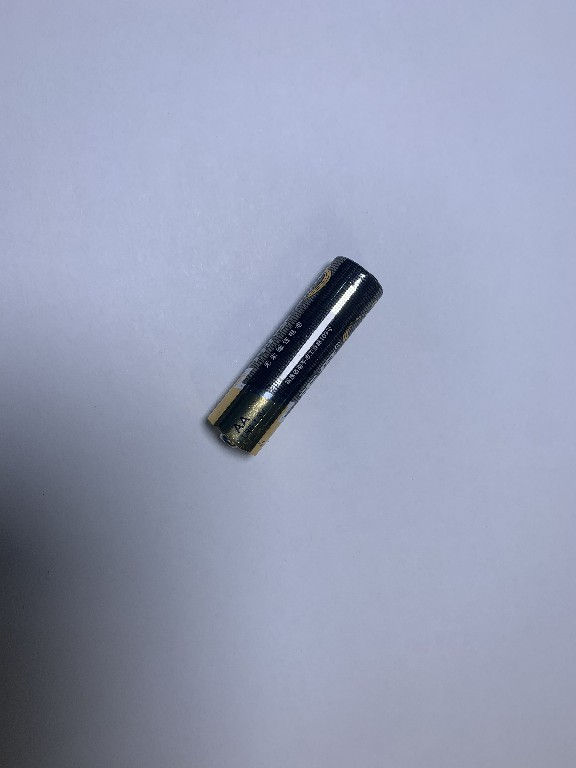charge: (202, 252, 385, 460)
